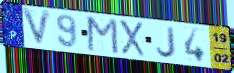4: (184, 27, 208, 64)
9: (56, 14, 78, 49)
J: (155, 25, 176, 59)
M: (86, 15, 120, 56)
V: (19, 6, 53, 49)
X: (118, 19, 147, 58)
